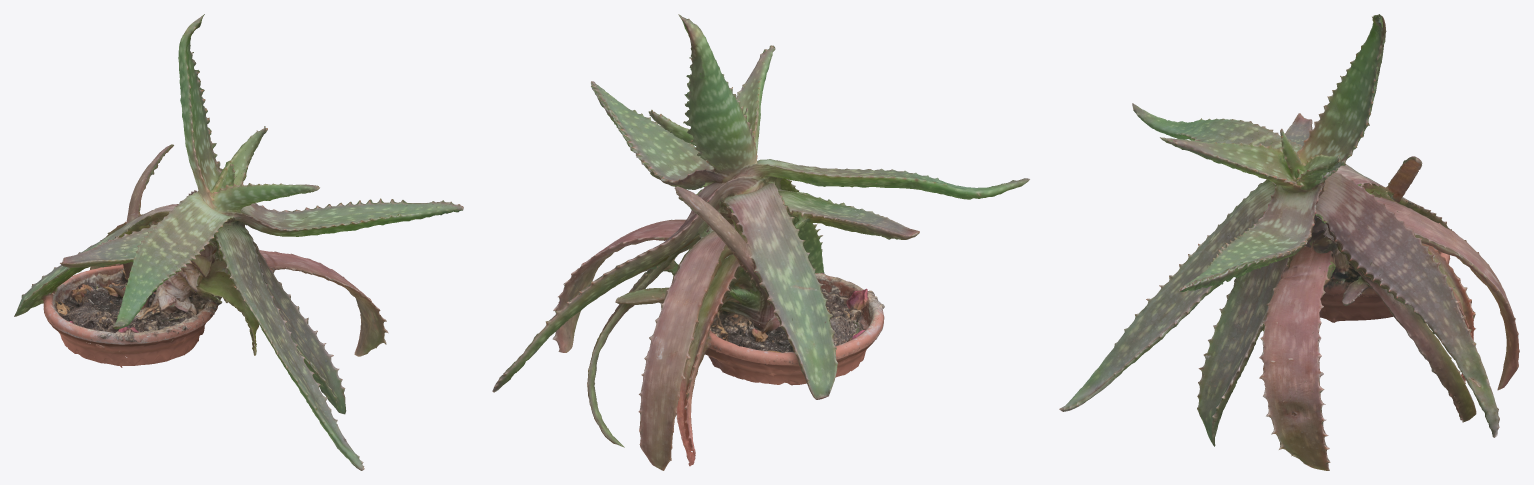
The model's file is aloe-vera.glb.
3 views of the same model, side by side, from view 1: azimuth 30°, elevation 25°; view 2: azimuth 150°, elevation 25°; view 3: azimuth 270°, elevation 25° (orthographic). The views are drawn at different scales.
Visible parts, largest first — view 1: Model; view 2: Model; view 3: Model.
Part boxes in pixels (left/top/right/bottom): Model: left=14, top=14, right=463, bottom=470; Model: left=492, top=14, right=1029, bottom=470; Model: left=1059, top=14, right=1519, bottom=470.
Bounding box in the file's own units: 3.77 × 3.55 × 3.67.
3 materials, 3 textured.
